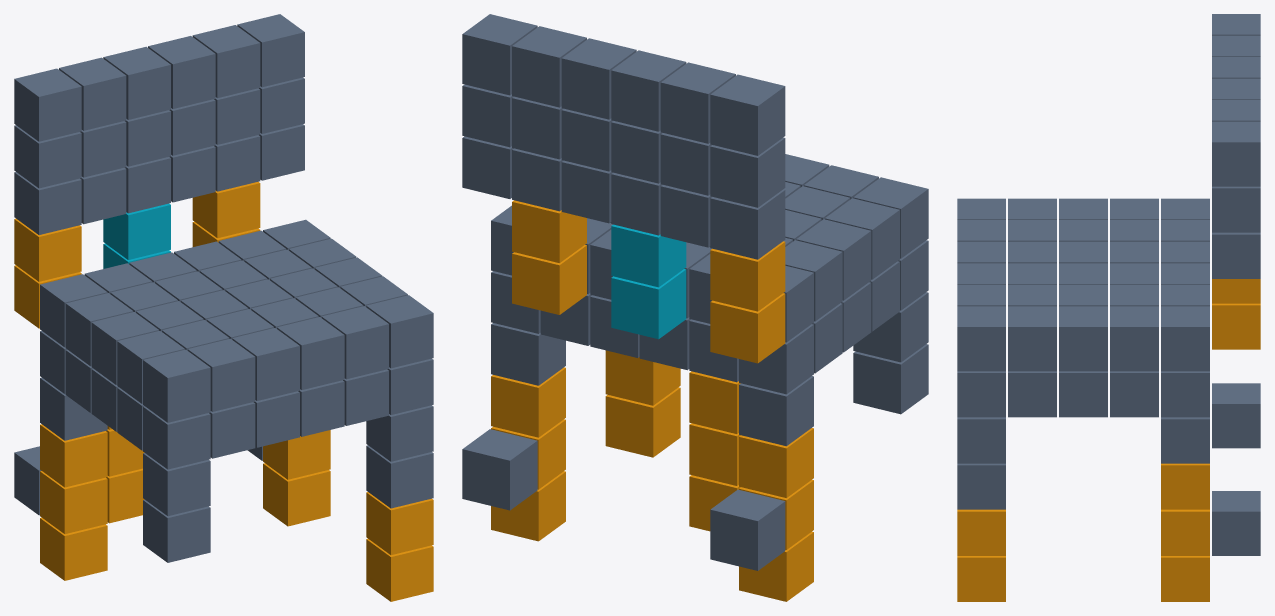
Rendered from stabilized.glb.
3 renders of one model, left to right at view 1: azimuth 30°, elevation 25°; view 2: azimuth 150°, elevation 25°; view 3: azimuth 270°, elevation 25°, orthographic. The views are drawn at different scales.
Parts seen in each view (by area): view 1: Original blocks, Columns, Bridges; view 2: Original blocks, Columns, Bridges; view 3: Original blocks, Columns.
Part boxes in pixels (box(x1,y1,x2,y2)): Original blocks: box(14, 14, 433, 562); Columns: box(14, 181, 433, 601); Bridges: box(103, 203, 170, 268); Original blocks: box(462, 14, 928, 570); Columns: box(491, 200, 813, 601); Bridges: box(611, 224, 686, 339); Original blocks: box(957, 14, 1260, 555); Columns: box(957, 279, 1260, 601).
Size of the model in its own units: 0.596 by 0.996 by 0.596.
